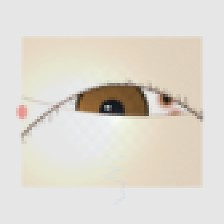foreign_body_visible: (142, 80, 190, 118)
